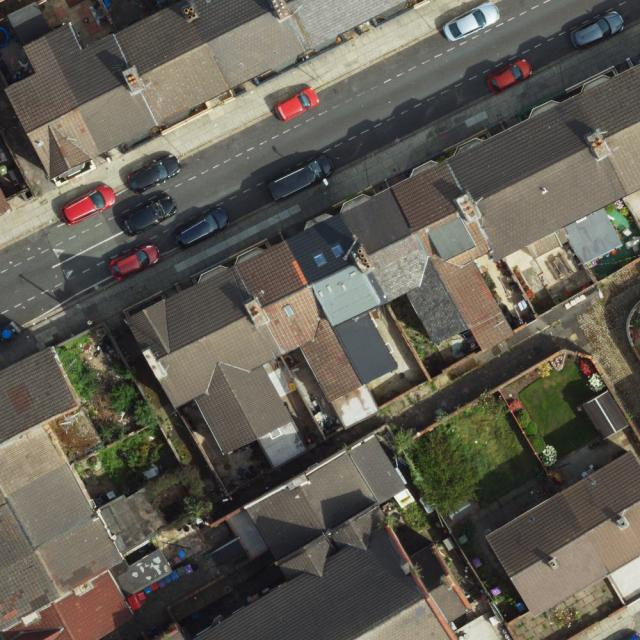roof: (120, 58, 640, 455), (9, 0, 408, 184), (194, 433, 458, 639), (3, 345, 137, 640), (488, 447, 640, 618)
skylight: (330, 241, 348, 259), (311, 251, 329, 268), (280, 301, 296, 317)
